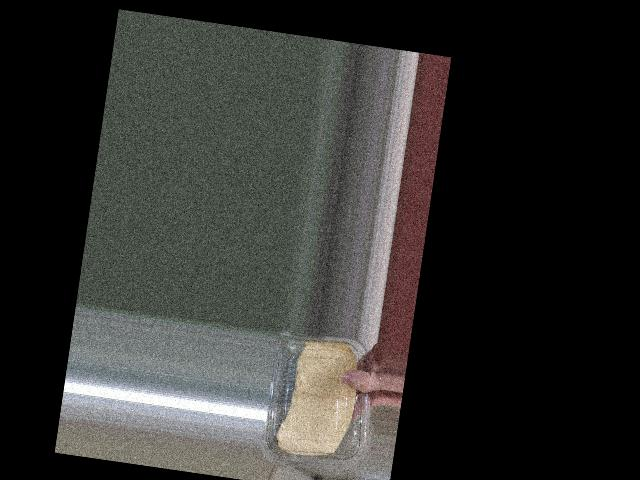cheese: (258, 327, 370, 475)
